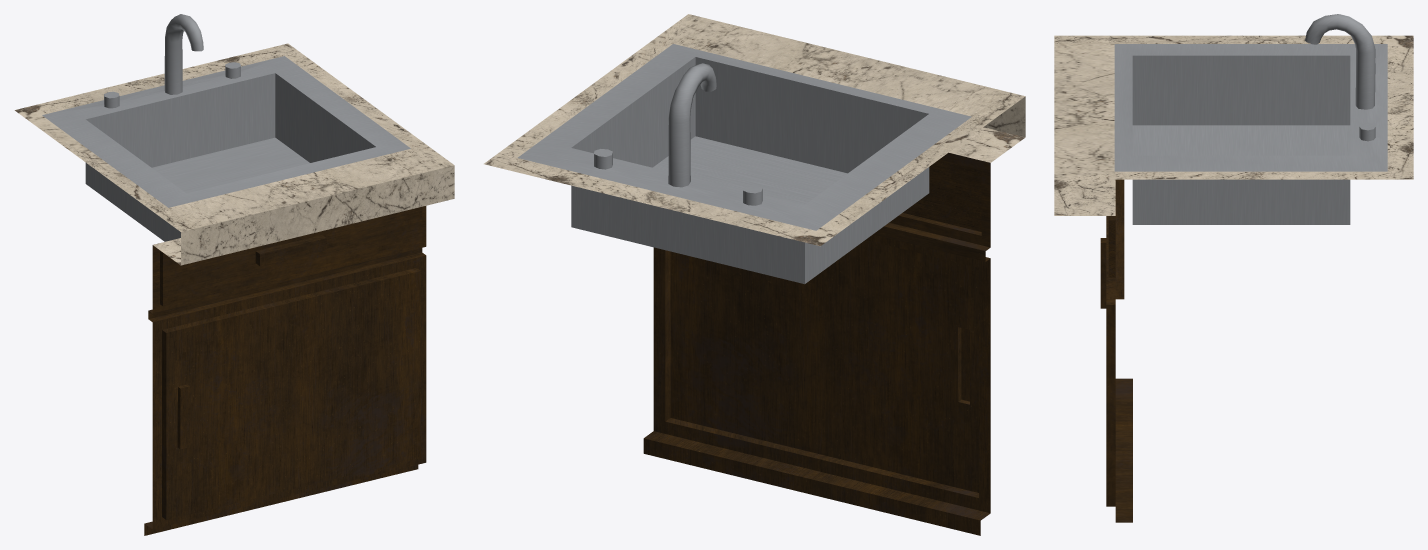
Rendered from sink_fixed.FBX.
3 renders of one model, left to right at view 1: azimuth 30°, elevation 25°; view 2: azimuth 150°, elevation 25°; view 3: azimuth 270°, elevation 25°, orthographic. The views are drawn at different scales.
Parts seen in each view (by area): view 1: sink; view 2: sink; view 3: sink.
Part boxes in pixels (x1,y1,x2,y2): sink: (14,14,454,535); sink: (484,14,1025,535); sink: (1054,14,1413,522).
Size of the model in its own units: 105 by 153 by 111.
